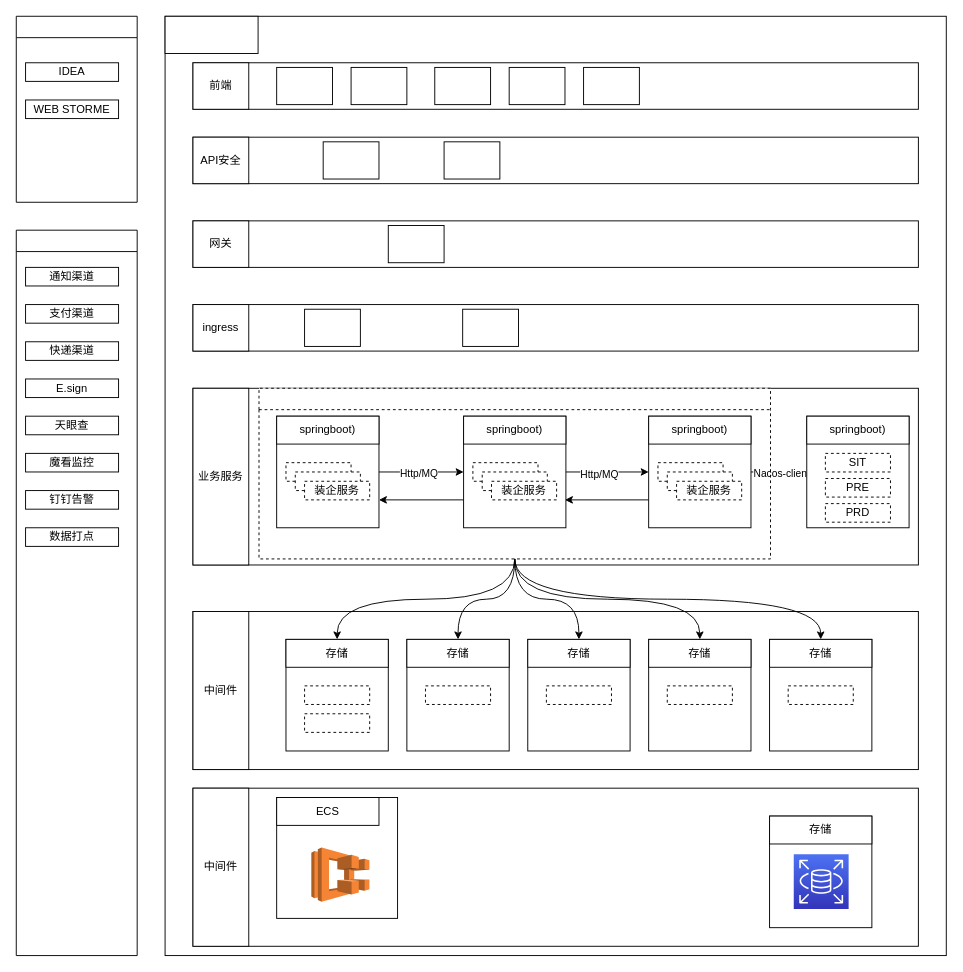
The diagram is 963 pixels wide and 972 high, and some of its shapes have lost their labels. Each missing label, with the box of its shape:
业务应用: (258, 387, 771, 559)
技术架构: (164, 15, 258, 53)
研发平台: (15, 15, 137, 202)
第三方接入: (15, 229, 137, 956)
